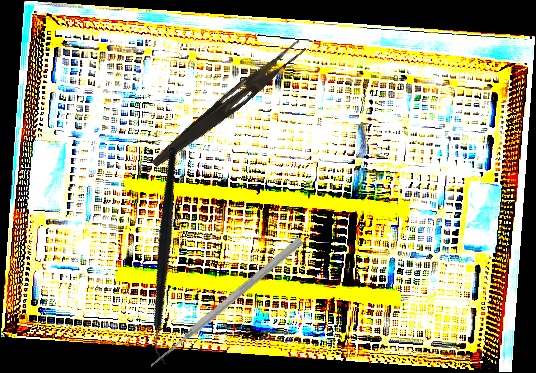Chopper: (84, 146, 252, 367)
Dressing Forceps: (149, 33, 308, 176)
Pusher: (147, 235, 305, 371)
